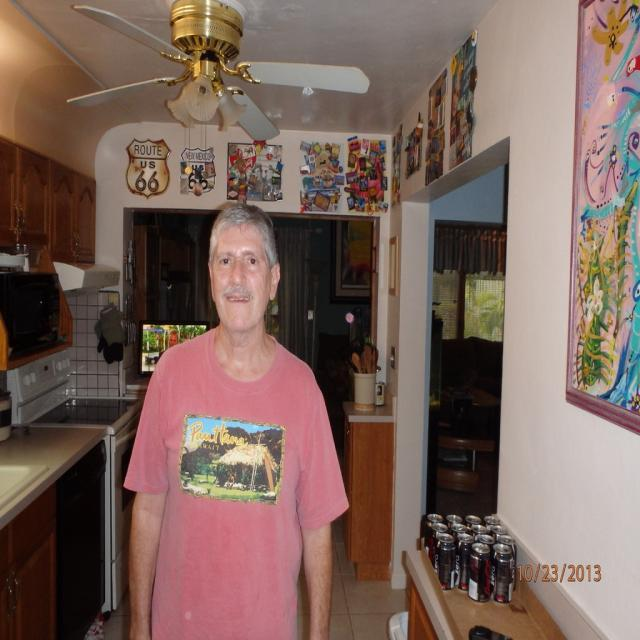fan_off: (56, 0, 379, 140)
